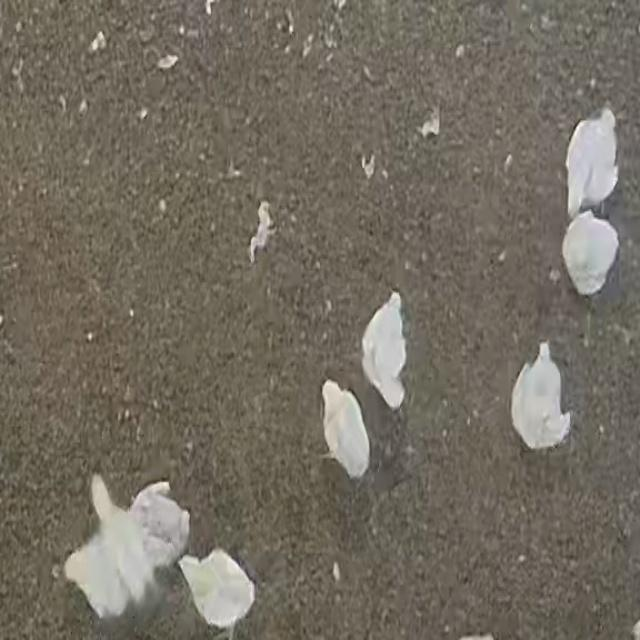chicken: (508, 334, 574, 456), (177, 547, 258, 640), (302, 377, 373, 482), (358, 287, 410, 413), (562, 109, 618, 220), (559, 210, 621, 300)
